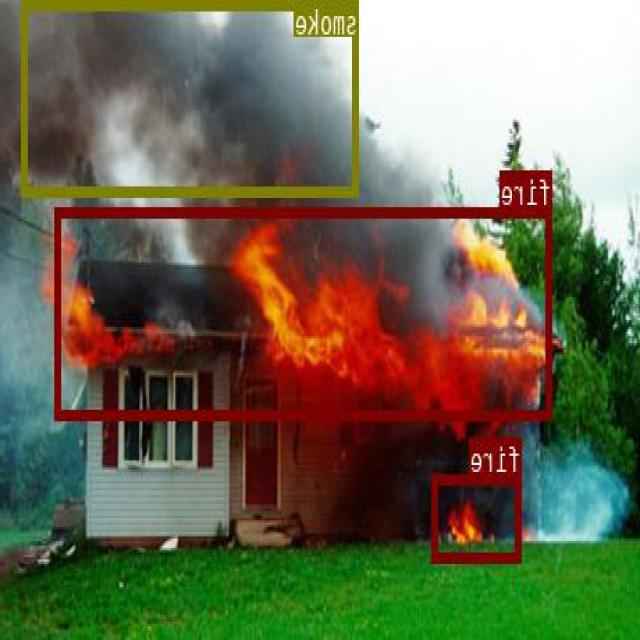fire: (56, 205, 553, 418), (433, 472, 523, 560)
smoke: (24, 0, 360, 193)
